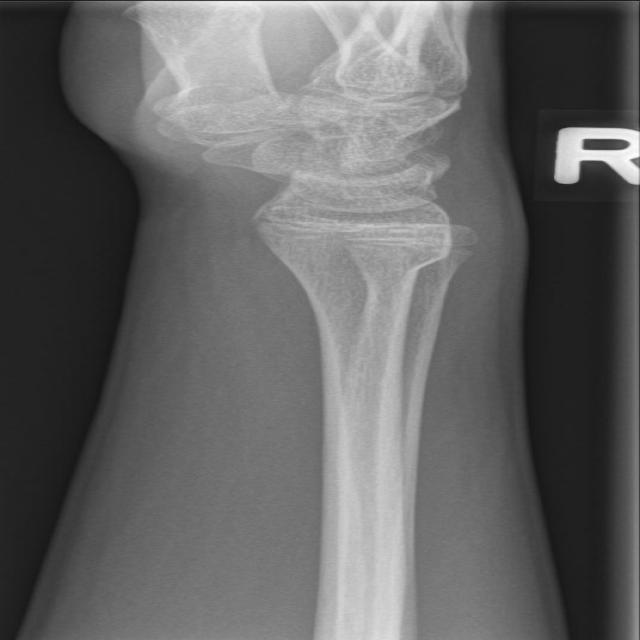fracture: (238, 204, 478, 239), (321, 227, 493, 260)
